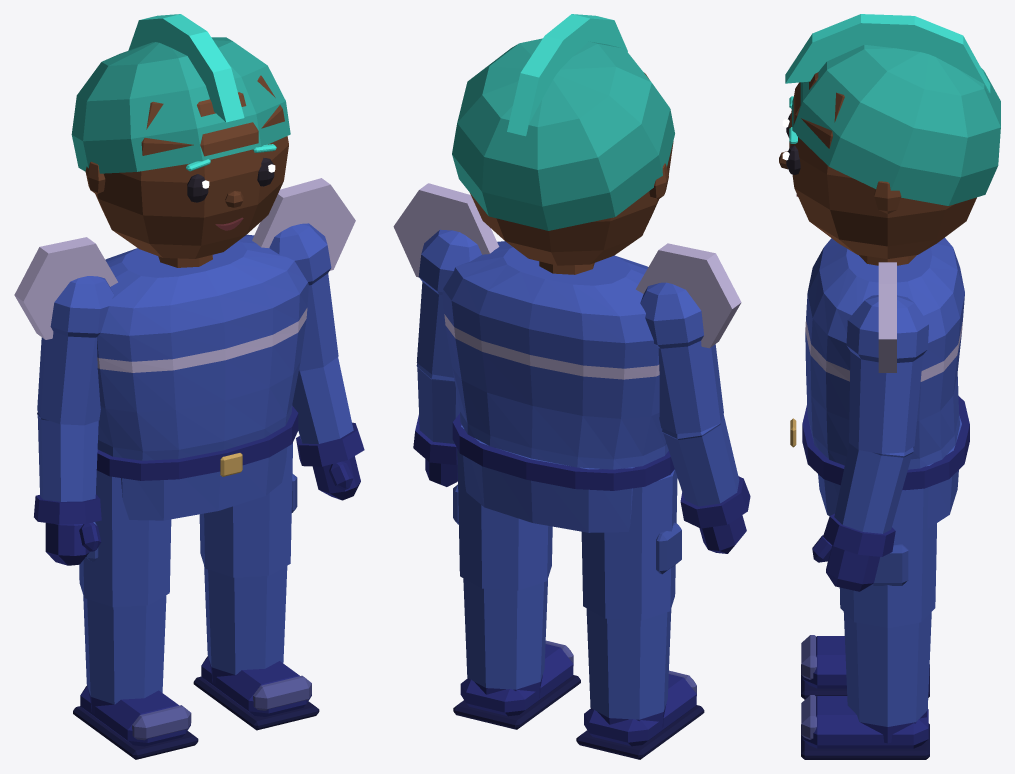
File: pri-n2.glb
3 views of the same model, side by side, from view 1: azimuth 30°, elevation 25°; view 2: azimuth 150°, elevation 25°; view 3: azimuth 270°, elevation 25° (orthographic).
Visible parts, largest first — view 1: torso, haare, kopf, bein_r, bein_l, arm_r, arm_l, schulterpaneele, becken, schuh_r, schuh_l, gürtel (+3 smaller); view 2: torso, haare, bein_r, bein_l, arm_r, schulterpaneele, arm_l, becken, kopf, gürtel, schuh_l, schuh_r (+2 smaller); view 3: haare, torso, arm_l, bein_l, kopf, schuh_l, gürtel, schuh_r, hand_l, schulterpaneele, becken, gesicht.
Part boxes in pixels (x1,y1,x2,y2): torso: [97, 234, 308, 460]; haare: [71, 14, 290, 173]; kopf: [85, 75, 288, 258]; bein_r: [79, 470, 171, 704]; bein_l: [199, 443, 297, 674]; arm_r: [34, 276, 113, 524]; arm_l: [269, 223, 364, 466]; schulterpaneele: [14, 178, 355, 339]; becken: [121, 447, 287, 520]; schuh_r: [73, 685, 198, 759]; schuh_l: [193, 656, 319, 730]; gürtel: [96, 406, 298, 480]; torso: [442, 241, 668, 469]; haare: [452, 14, 674, 230]; bein_r: [581, 469, 681, 719]; bein_l: [453, 449, 552, 689]; arm_r: [640, 282, 750, 528]; schulterpaneele: [393, 183, 741, 348]; arm_l: [413, 229, 481, 464]; becken: [461, 425, 634, 532]; kopf: [470, 72, 673, 265]; gürtel: [452, 413, 674, 490]; schuh_l: [453, 640, 580, 729]; schuh_r: [576, 670, 704, 759]; haare: [785, 14, 1000, 205]; torso: [805, 237, 964, 469]; arm_l: [823, 295, 928, 556]; bein_l: [839, 488, 936, 726]; kopf: [789, 72, 976, 258]; schuh_l: [801, 695, 929, 759]; gürtel: [790, 396, 969, 490]; schuh_r: [801, 635, 929, 699]; hand_l: [812, 535, 879, 591]; schulterpaneele: [878, 262, 896, 372]; becken: [818, 416, 961, 528]; gesicht: [779, 96, 800, 196].
Bounding box in the file's own units: 0.0134 × 0.0264 × 0.00761.
